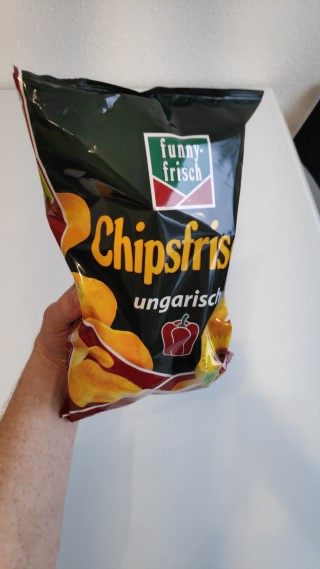chipsfrisch: (10, 63, 266, 424)
